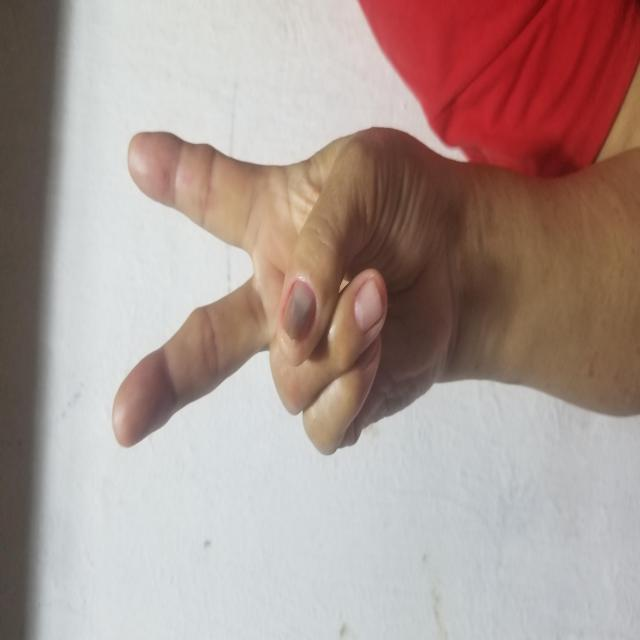V: (181, 111, 516, 419)
